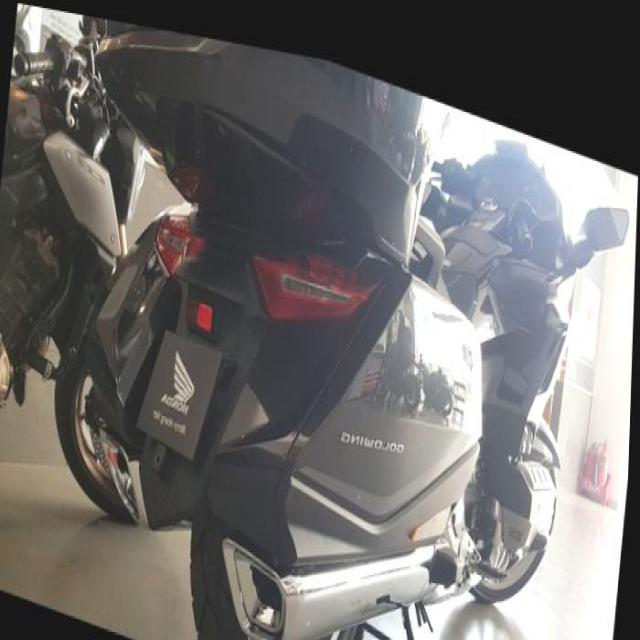Gold Wing: (46, 8, 594, 638)
